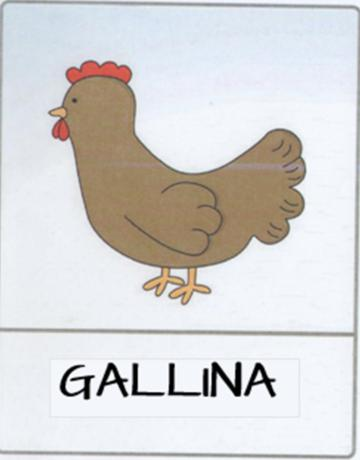gallina: (2, 3, 359, 460)
